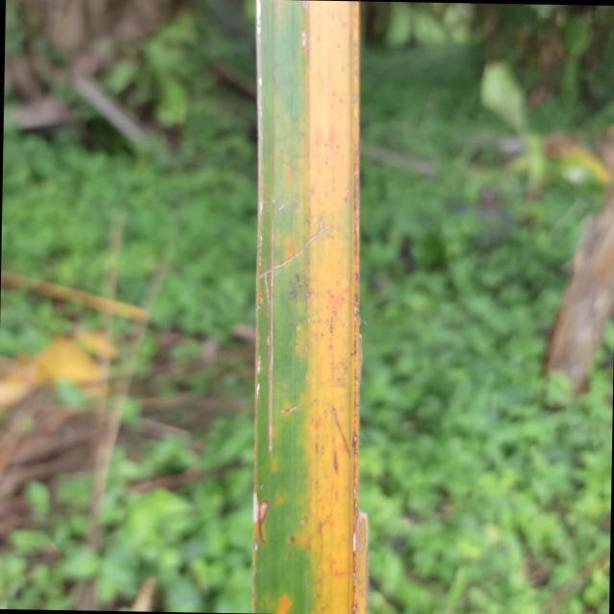Megnesium: (251, 0, 374, 614)
